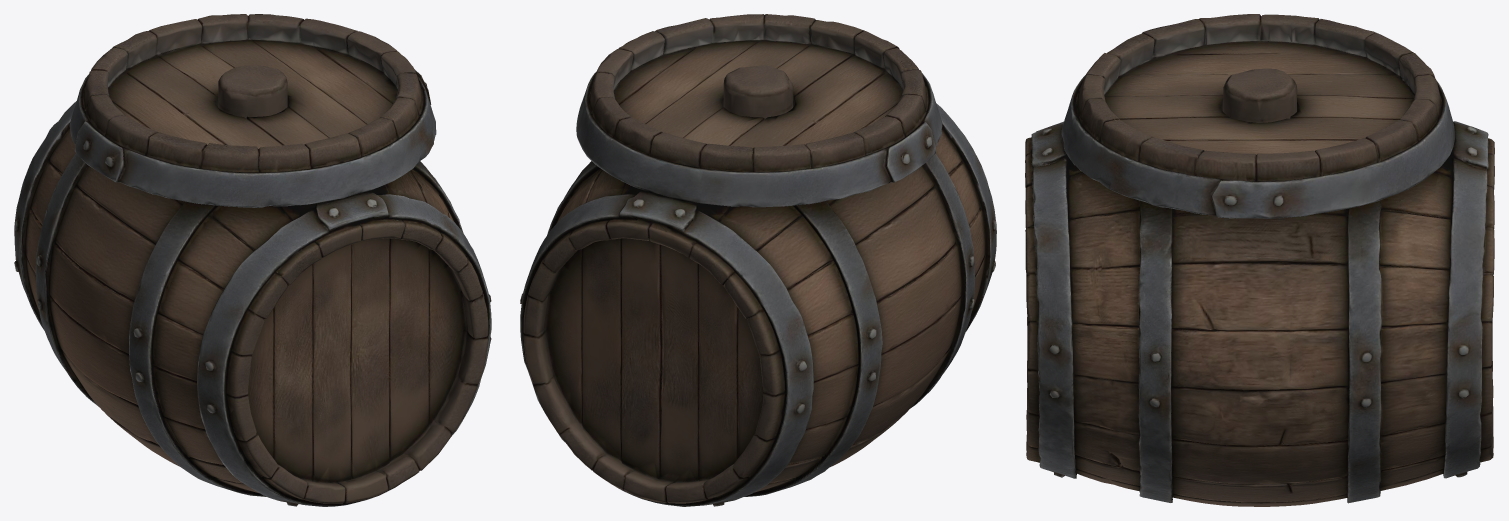
File: barrel_prism31.glb
3 renders of one model, left to right at view 1: azimuth 30°, elevation 25°; view 2: azimuth 150°, elevation 25°; view 3: azimuth 270°, elevation 25°, orthographic. The views are drawn at different scales.
Parts seen in each view (by area): view 1: tripo_node_68f95c91-c799-46d9-9004-4579e3ddcdb6; view 2: tripo_node_68f95c91-c799-46d9-9004-4579e3ddcdb6; view 3: tripo_node_68f95c91-c799-46d9-9004-4579e3ddcdb6.
Boxes of the visible parts, x1=… form: tripo_node_68f95c91-c799-46d9-9004-4579e3ddcdb6: x1=14, y1=14, x2=491, y2=506; tripo_node_68f95c91-c799-46d9-9004-4579e3ddcdb6: x1=520, y1=14, x2=996, y2=506; tripo_node_68f95c91-c799-46d9-9004-4579e3ddcdb6: x1=1025, y1=14, x2=1494, y2=506.
Size of the model in its own units: 0.8921 by 0.9536 by 1.
Materials: 1 (1 with a texture image).
